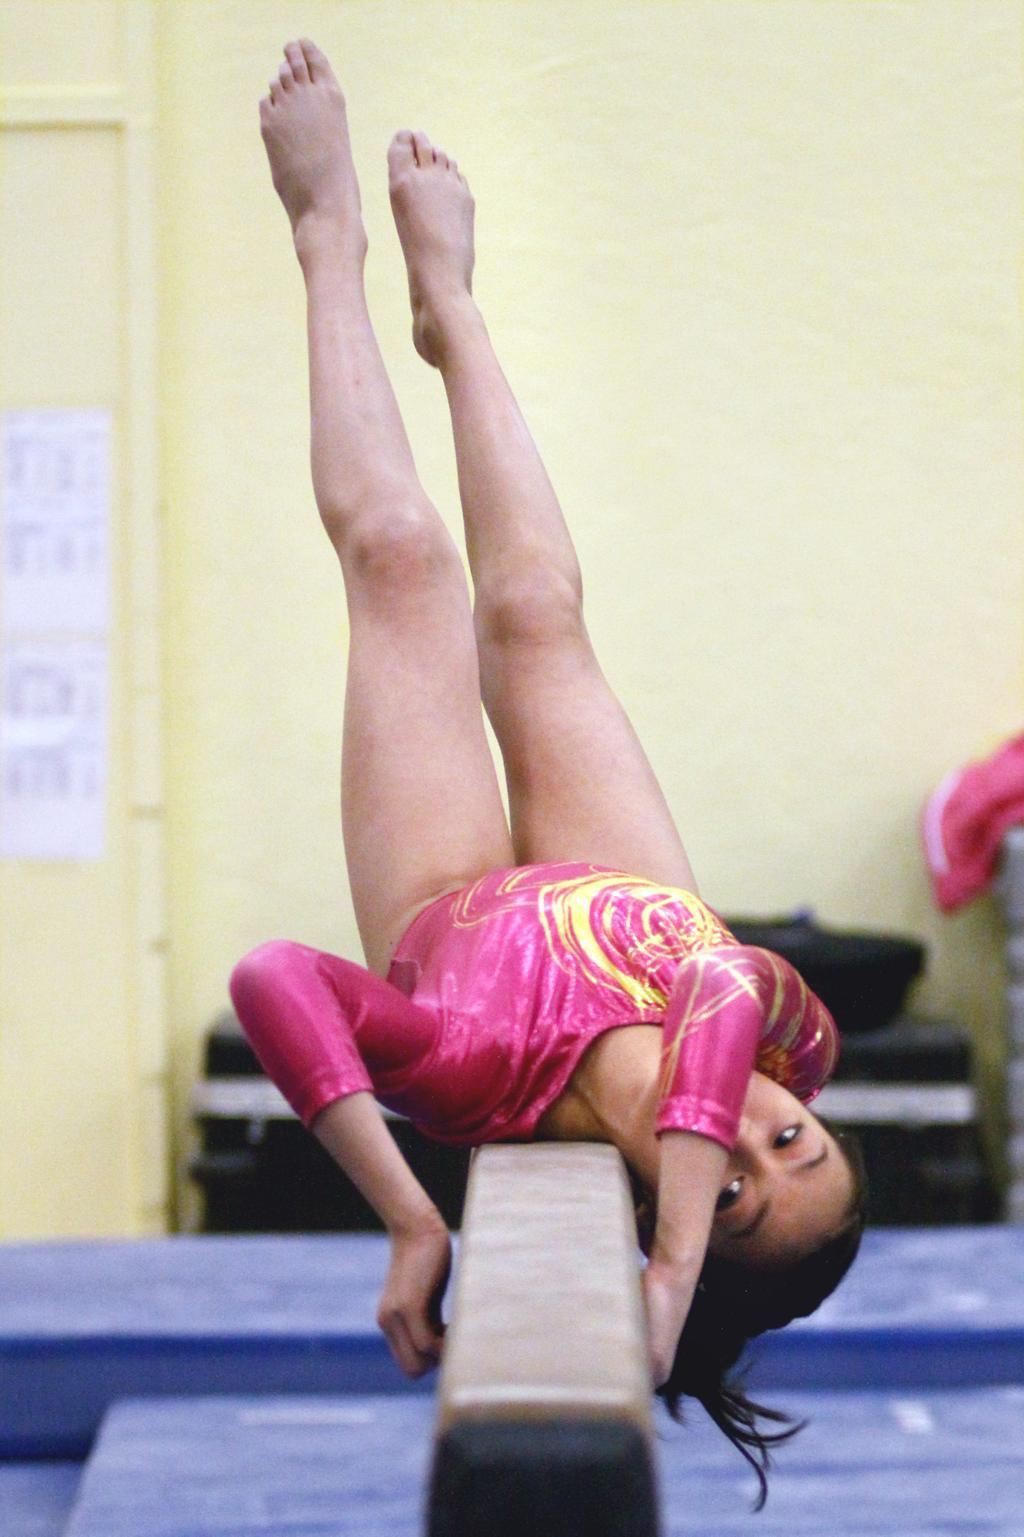face: (650, 1067, 851, 1274)
